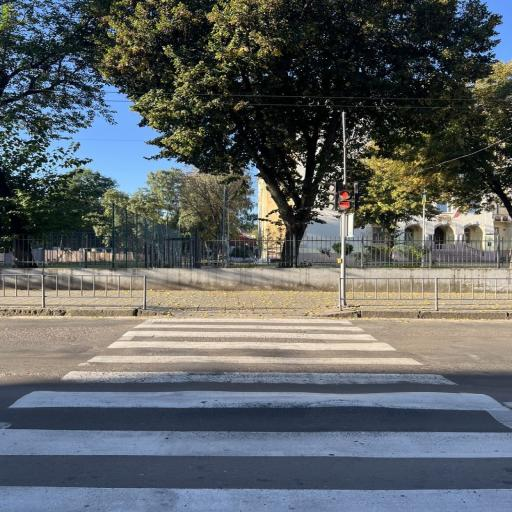closet: (0, 318, 511, 511)
construction_fence: (315, 309, 511, 319)
shelf: (147, 291, 338, 315)
table: (325, 182, 338, 210), (338, 189, 353, 211)
